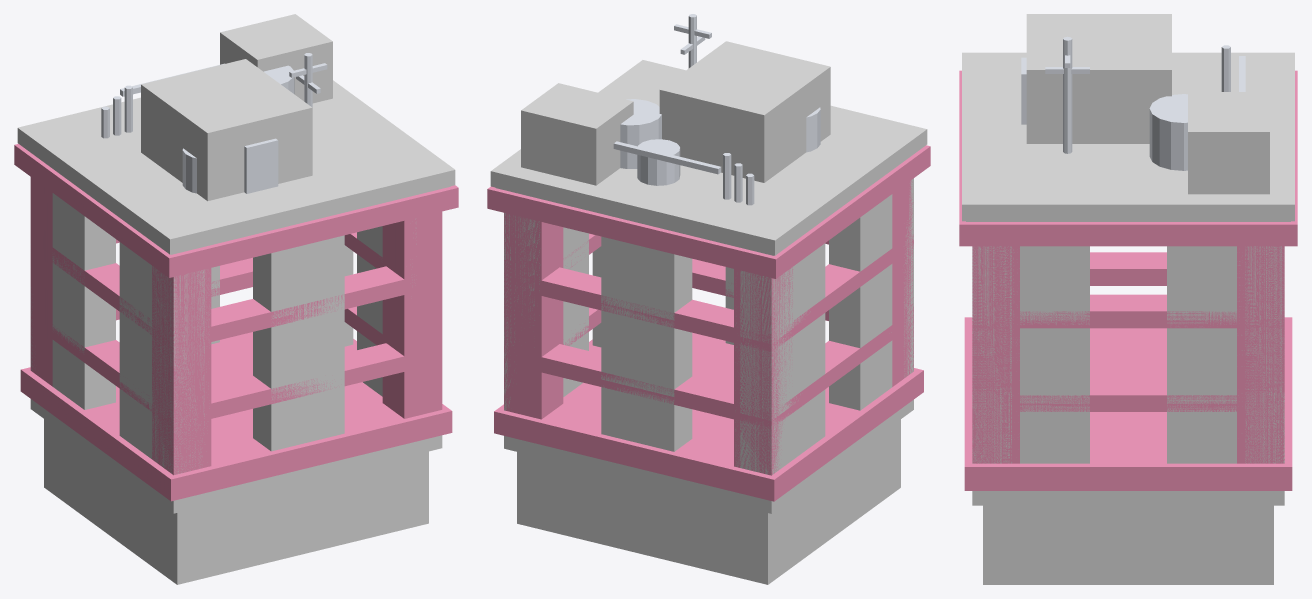
The model's file is tong-lau.glb.
3 views of the same model, side by side, from view 1: azimuth 30°, elevation 25°; view 2: azimuth 150°, elevation 25°; view 3: azimuth 270°, elevation 25° (orthographic). The views are drawn at different scales.
Visible parts, largest first — view 1: tong lau parapet, tong lau arcade, tong lau plinth, tong lau pier.001, tong lau lift overrun, tong lau corner.001, tong lau pier.008, tong lau corner.003, tong lau cornice, tong lau pier.009, tong lau stair bulkhead, tong lau soffit (+13 smaller); view 2: tong lau arcade, tong lau parapet, tong lau plinth, tong lau lift overrun, tong lau pier.004, tong lau pier.009, tong lau cornice, tong lau corner.002, tong lau pier.008, tong lau corner, tong lau stair bulkhead, tong lau soffit (+17 smaller); view 3: tong lau parapet, tong lau arcade, tong lau plinth, tong lau lift overrun, tong lau pier.007, tong lau pier.006, tong lau corner.003, tong lau corner.002, tong lau cornice, tong lau stair bulkhead, tong lau soffit, tong lau pier.003 (+10 smaller).
Part boxes in pixels (box(x1,y1,x2,y2)): tong lau parapet: box(17, 80, 455, 254); tong lau arcade: box(44, 419, 428, 584); tong lau plinth: box(20, 332, 452, 501); tong lau pier.001: box(253, 235, 344, 451); tong lau lift overrun: box(141, 59, 312, 201); tong lau corner.001: box(152, 266, 211, 475); tong lau pier.008: box(119, 242, 204, 474); tong lau corner.003: box(382, 211, 442, 418); tong lau cornice: box(14, 144, 458, 277); tong lau pier.009: box(52, 193, 115, 409); tong lau stair bulkhead: box(220, 14, 332, 103); tong lau soffit: box(30, 399, 442, 513); tong lau arcade: box(517, 419, 900, 584); tong lau parapet: box(490, 60, 927, 255); tong lau plinth: box(494, 332, 923, 501); tong lau lift overrun: box(659, 41, 830, 182); tong lau pier.004: box(601, 236, 692, 451); tong lau pier.009: box(740, 243, 825, 474); tong lau cornice: box(487, 145, 930, 278); tong lau corner.002: box(504, 213, 563, 419); tong lau pier.008: box(829, 194, 892, 410); tong lau corner: box(734, 267, 793, 475); tong lau stair bulkhead: box(521, 83, 633, 185); tong lau soffit: box(504, 399, 913, 513); tong lau parapet: box(962, 52, 1294, 221); tong lau arcade: box(983, 505, 1273, 584); tong lau plinth: box(964, 317, 1292, 490); tong lau lift overrun: box(1026, 14, 1171, 143); tong lau pier.007: box(972, 246, 1089, 463); tong lau pier.006: box(1167, 246, 1279, 463); tong lau corner.003: box(972, 246, 1019, 463); tong lau corner.002: box(1237, 246, 1284, 463); tong lau cornice: box(959, 70, 1297, 246); tong lau stair bulkhead: box(1188, 92, 1269, 194); tong lau soffit: box(972, 491, 1284, 505); tong lau pier.003: box(1245, 246, 1284, 463).
Size of the model in its own units: 2.76 by 4.2 by 2.56.
